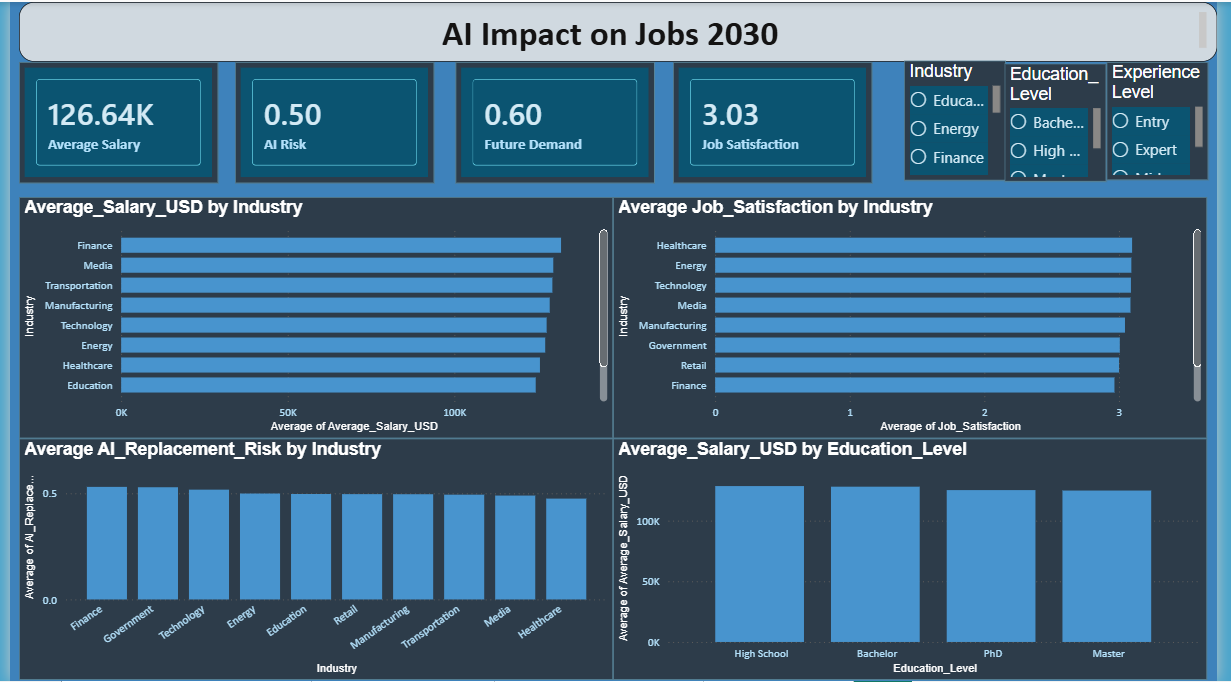

What the dashboard file says about the page in this screenshot:
{"tool":"powerbi","page":{"name":"Dashboard","canvas":[1280,720],"ordinal":3},"visuals":[{"type":"textbox","box":[9.5,0,1259.8,63.6],"z":0},{"type":"cardVisual","fields":{"Data":["AI_Impact_on_Jobs_2030.Average Salary"]},"box":[9.5,73.2,211.6,109.8],"z":1},{"type":"cardVisual","fields":{"Data":["AI_Impact_on_Jobs_2030.AI Risk"]},"box":[241.8,73.2,211.6,109.8],"z":2},{"type":"cardVisual","fields":{"Data":["AI_Impact_on_Jobs_2030.Future Demand"]},"box":[472.4,73.2,211.6,109.8],"z":3},{"type":"cardVisual","fields":{"Data":["AI_Impact_on_Jobs_2030.Job Satisfaction"]},"box":[703.1,73.2,211.6,109.8],"z":4},{"type":"barChart","title":" Average_Salary_USD by Industry","fields":{"Category":["AI_Impact_on_Jobs_2030.Industry"],"Y":["Avg(AI_Impact_on_Jobs_2030.Average_Salary_USD)"]},"box":[9.5,206.8,630,256.1],"z":5},{"type":"clusteredColumnChart","title":"Average  AI_Replacement_Risk by Industry","fields":{"Y":["Avg(AI_Impact_on_Jobs_2030.AI_Replacement_Risk)"],"Category":["AI_Impact_on_Jobs_2030.Industry"]},"box":[9.5,462.9,630,256],"z":7},{"type":"clusteredColumnChart","title":"Average_Salary_USD by Education_Level","fields":{"Category":["AI_Impact_on_Jobs_2030.Education_Level"],"Y":["Avg(AI_Impact_on_Jobs_2030.Average_Salary_USD)"]},"box":[639.4,462.9,629.9,256.1],"z":8},{"type":"clusteredBarChart","title":"Average  Job_Satisfaction by Industry","fields":{"Category":["AI_Impact_on_Jobs_2030.Industry"],"Y":["Avg(AI_Impact_on_Jobs_2030.Job_Satisfaction)"]},"box":[639.4,206.8,629.9,256.1],"z":9},{"type":"listSlicer","fields":{"Values":["AI_Impact_on_Jobs_2030.Industry"]},"box":[946.4,65.2,108.2,125.7],"z":10},{"type":"listSlicer","fields":{"Values":["AI_Impact_on_Jobs_2030.Education_Level"]},"box":[1054.6,65.2,108.2,125.7],"z":11},{"type":"listSlicer","fields":{"Values":["AI_Impact_on_Jobs_2030.Experience Level"]},"box":[1161.1,65.2,108.2,125.7],"z":12}]}

Visuals, with their boxes in screenshot pixels (x1, y1, x2, y2), scaled from the page's 1280x720 canvas onto the 1231x682 screenshot:
textbox: crop(9, 0, 1221, 60)
cardVisual - AI_Impact_on_Jobs_2030.Average Salary: crop(9, 69, 213, 173)
cardVisual - AI_Impact_on_Jobs_2030.AI Risk: crop(233, 69, 436, 173)
cardVisual - AI_Impact_on_Jobs_2030.Future Demand: crop(454, 69, 658, 173)
cardVisual - AI_Impact_on_Jobs_2030.Job Satisfaction: crop(676, 69, 880, 173)
" Average_Salary_USD by Industry" barChart: crop(9, 196, 615, 438)
"Average  AI_Replacement_Risk by Industry" clusteredColumnChart: crop(9, 438, 615, 681)
"Average_Salary_USD by Education_Level" clusteredColumnChart: crop(615, 438, 1221, 681)
"Average  Job_Satisfaction by Industry" clusteredBarChart: crop(615, 196, 1221, 438)
listSlicer - AI_Impact_on_Jobs_2030.Industry: crop(910, 62, 1014, 181)
listSlicer - AI_Impact_on_Jobs_2030.Education_Level: crop(1014, 62, 1118, 181)
listSlicer - AI_Impact_on_Jobs_2030.Experience Level: crop(1117, 62, 1221, 181)
